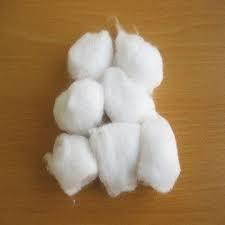cotton: (44, 19, 180, 196), (89, 123, 139, 196), (44, 133, 96, 195), (138, 115, 179, 192), (114, 28, 162, 91), (102, 67, 155, 121), (53, 78, 103, 134), (68, 30, 112, 78), (104, 74, 143, 120), (98, 113, 110, 126), (99, 113, 110, 125)
